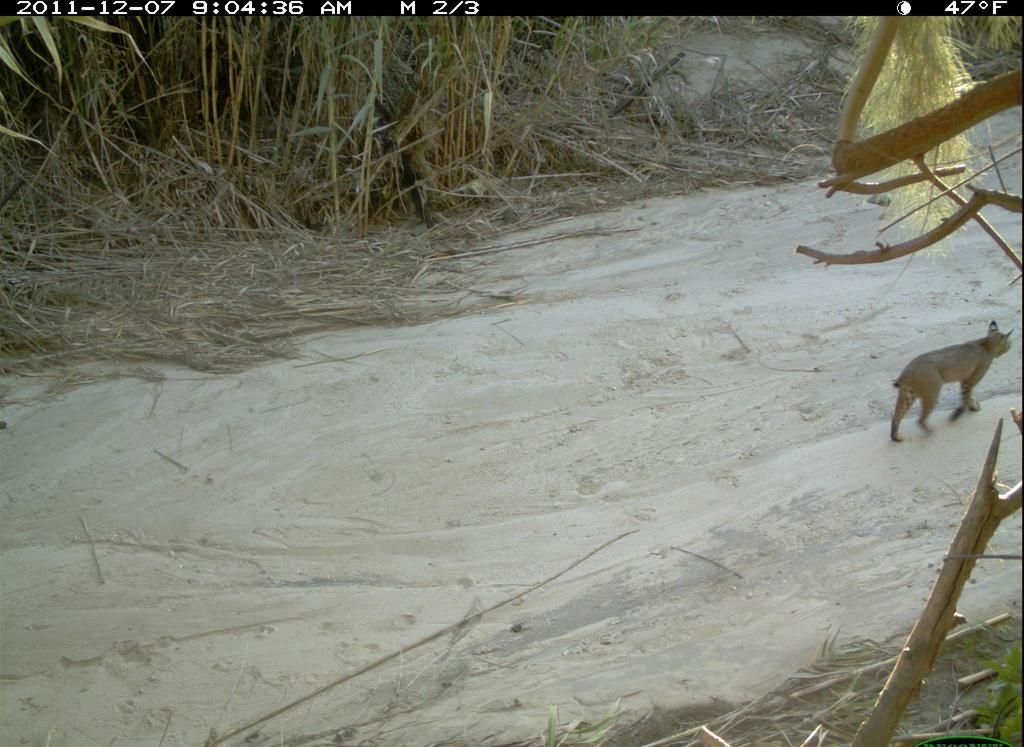bobcat: (886, 321, 1021, 455)
